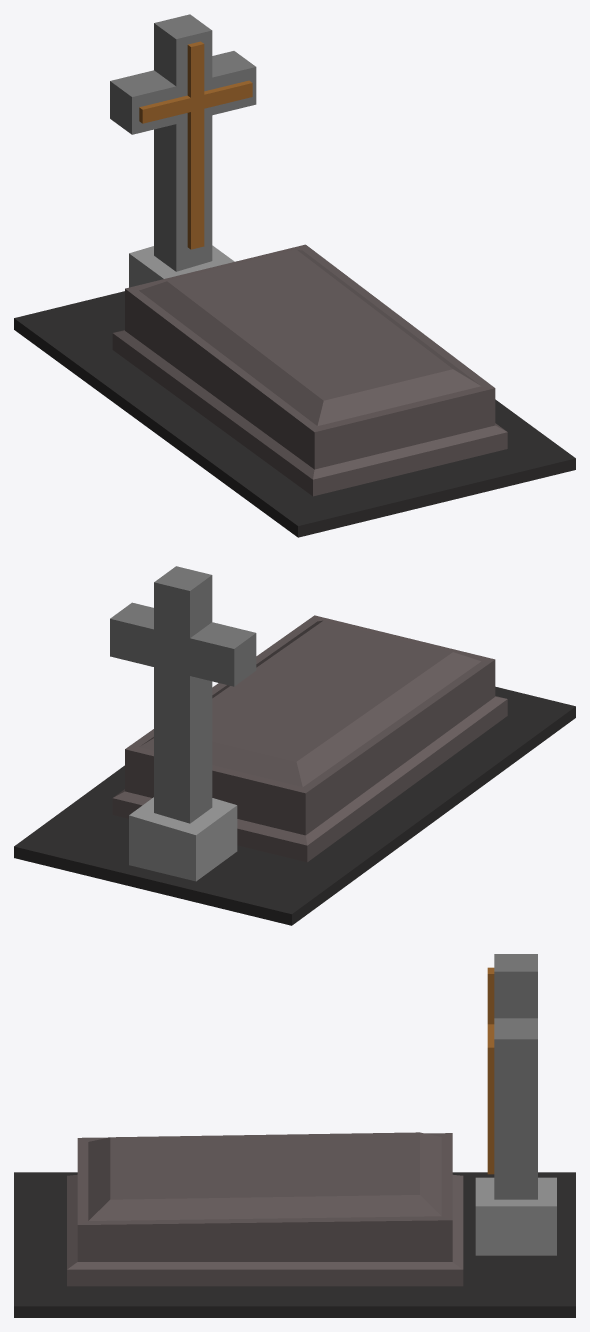
The model's file is HWN20_Grave_12.glb.
3 views of the same model, one above another, from view 1: azimuth 30°, elevation 25°; view 2: azimuth 150°, elevation 25°; view 3: azimuth 270°, elevation 25° (orthographic).
Visible parts, largest first — view 1: HWN20_Grave_12; view 2: HWN20_Grave_12; view 3: HWN20_Grave_12.
Part boxes in pixels (x1,y1,x2,y2): HWN20_Grave_12: (14,14,575,537); HWN20_Grave_12: (14,566,575,925); HWN20_Grave_12: (14,954,575,1317).
Size of what is drawn, in the model's own units: 1.25 by 1.26 by 2.22.
1 material, 1 textured.
